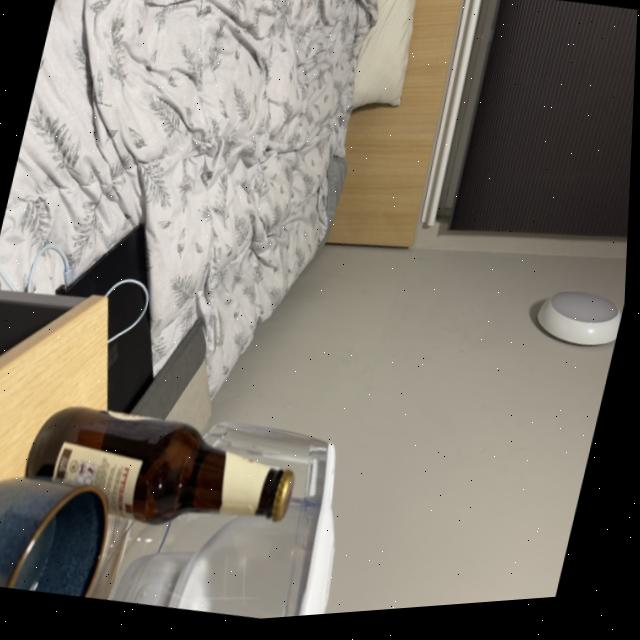beer: (14, 381, 315, 566)
